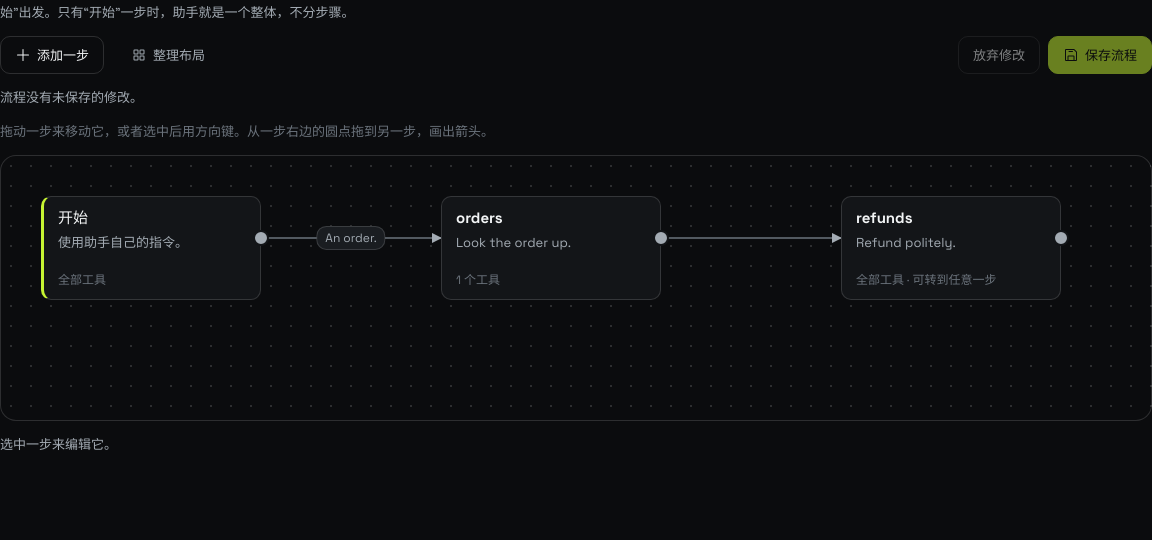
flow builder › shows the relay's reason when a save is refused, and keeps the drawing
The image size is (1152, 540).
Click the button "orders Look the order up. 1 个工具".
click(551, 248)  # box [441, 196, 661, 300]
(page scrolled)
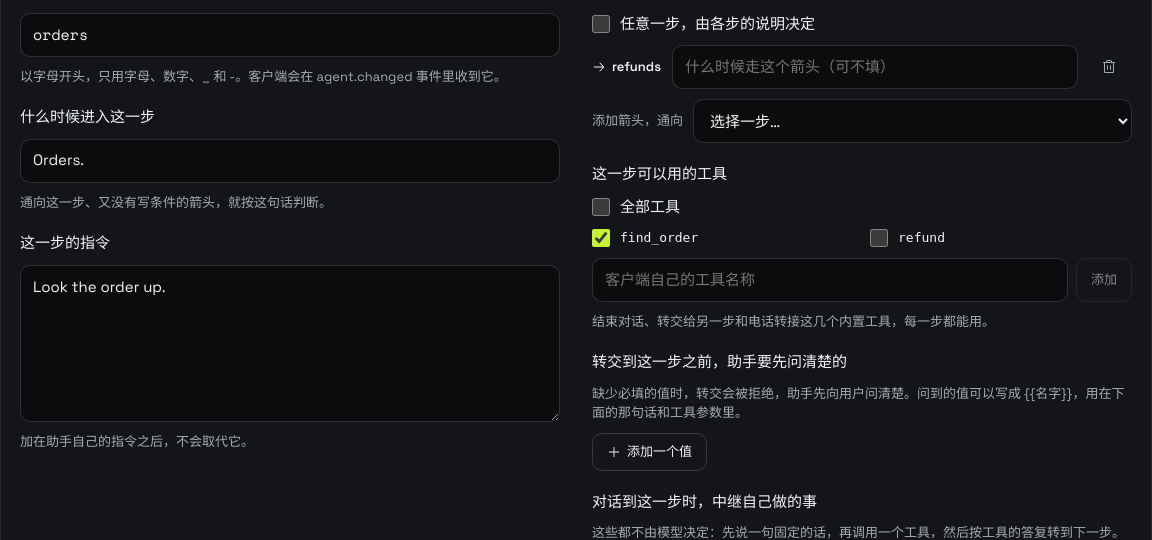
Replace the text in the text box labelled "这一步的指令" with "New." at (290,343), box [20, 264, 560, 422]
(page scrolled)
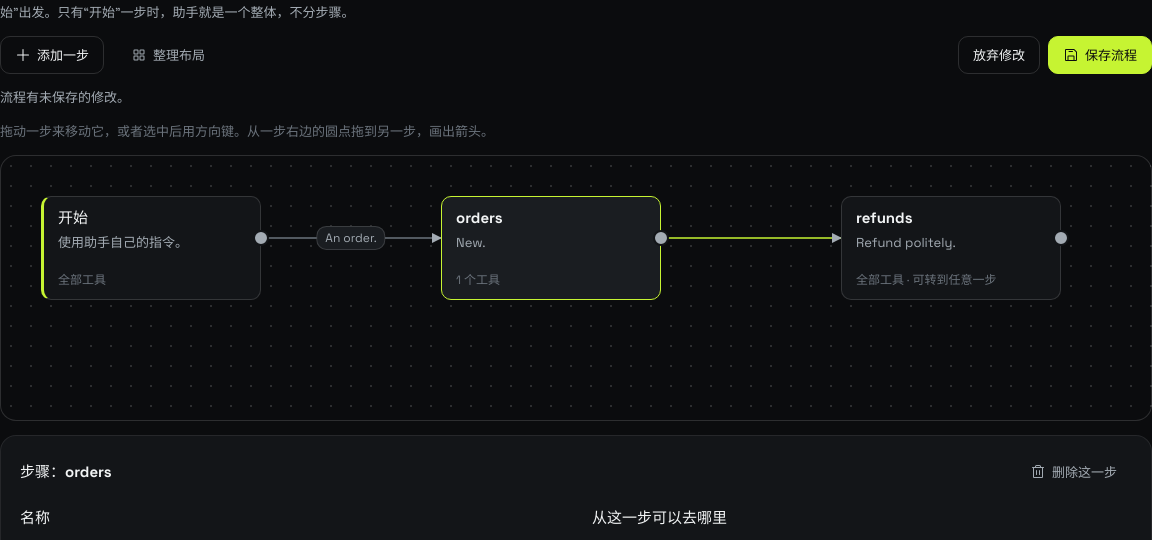
Click the button "保存流程".
click(1100, 55)  # box [1048, 36, 1151, 74]
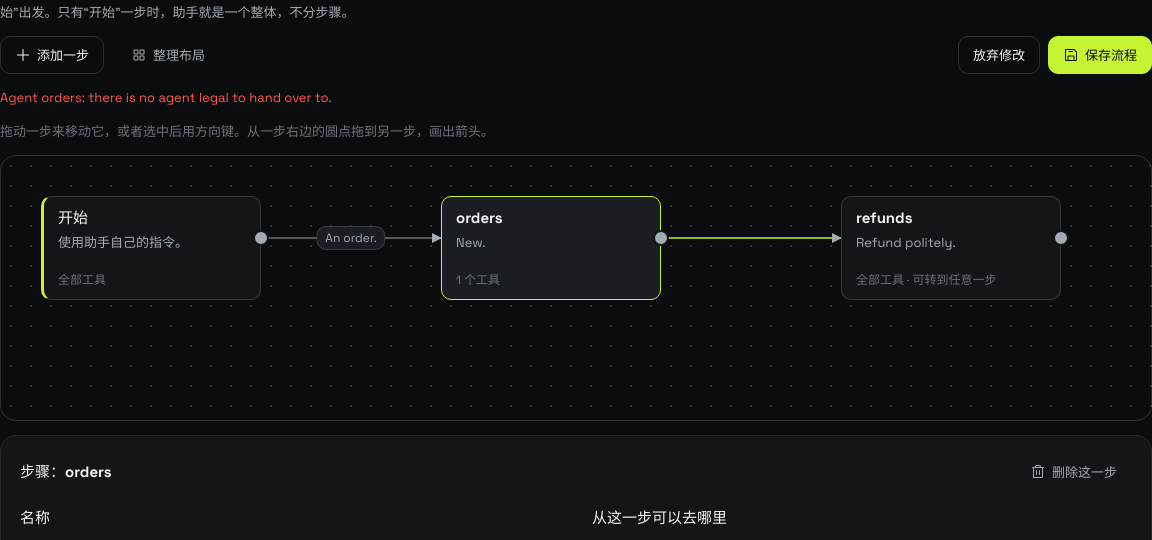
Expected: the text "Agent orders: there is no agent legal to hand over to." is shown, [0, 89, 332, 106]
